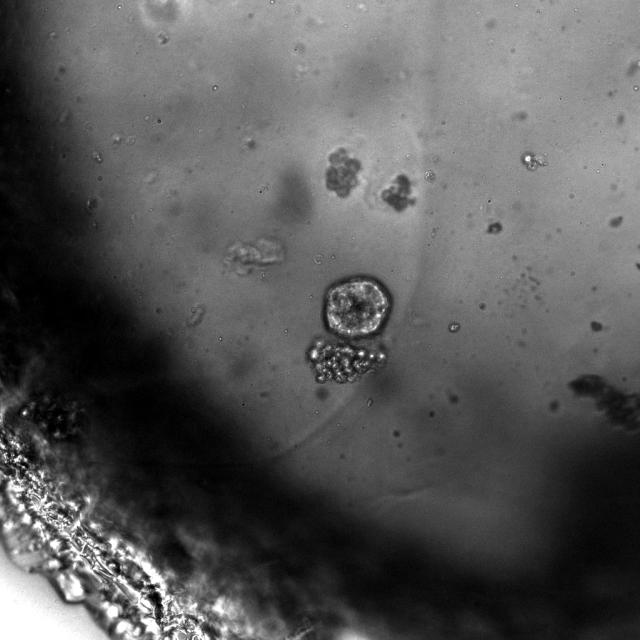organoid: (568, 374, 639, 432), (324, 277, 389, 338), (307, 339, 386, 383), (325, 147, 361, 197), (380, 173, 415, 211), (521, 152, 546, 170)
